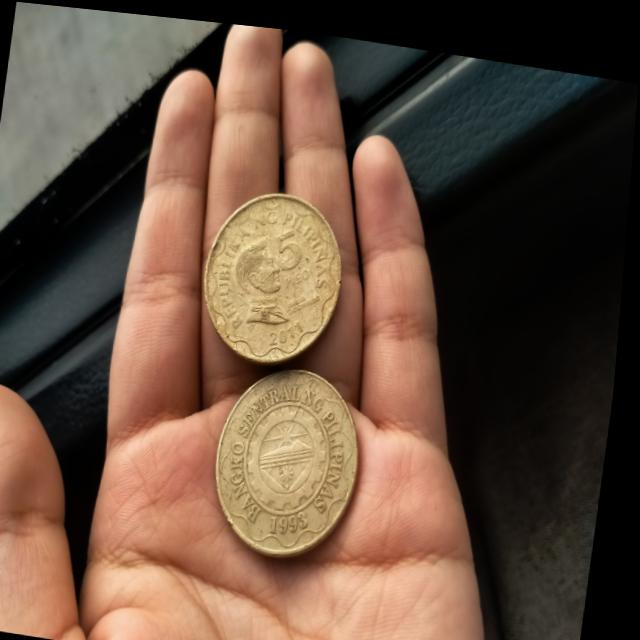5_Old_Back: (217, 351, 372, 562)
5_Old_Front: (265, 214, 326, 293)
